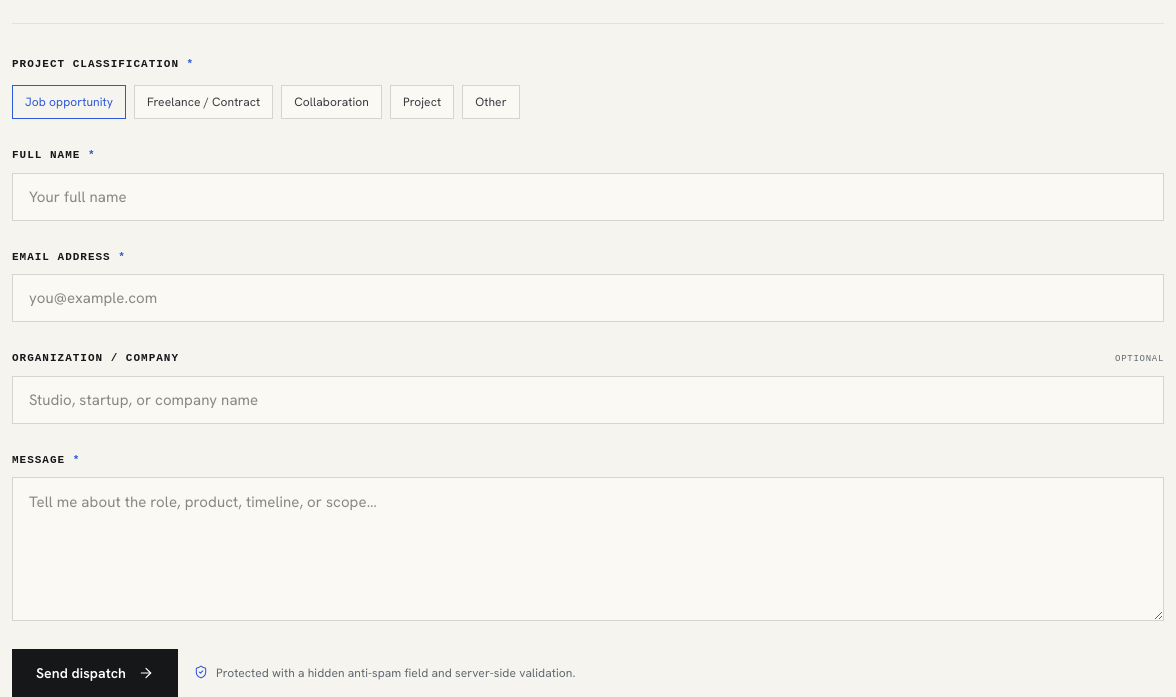
Test: ContactForm component › validates required fields before submitting
(page scrolled)
Click the button "Send dispatch".
click(95, 674)  # box [12,650,178,696]
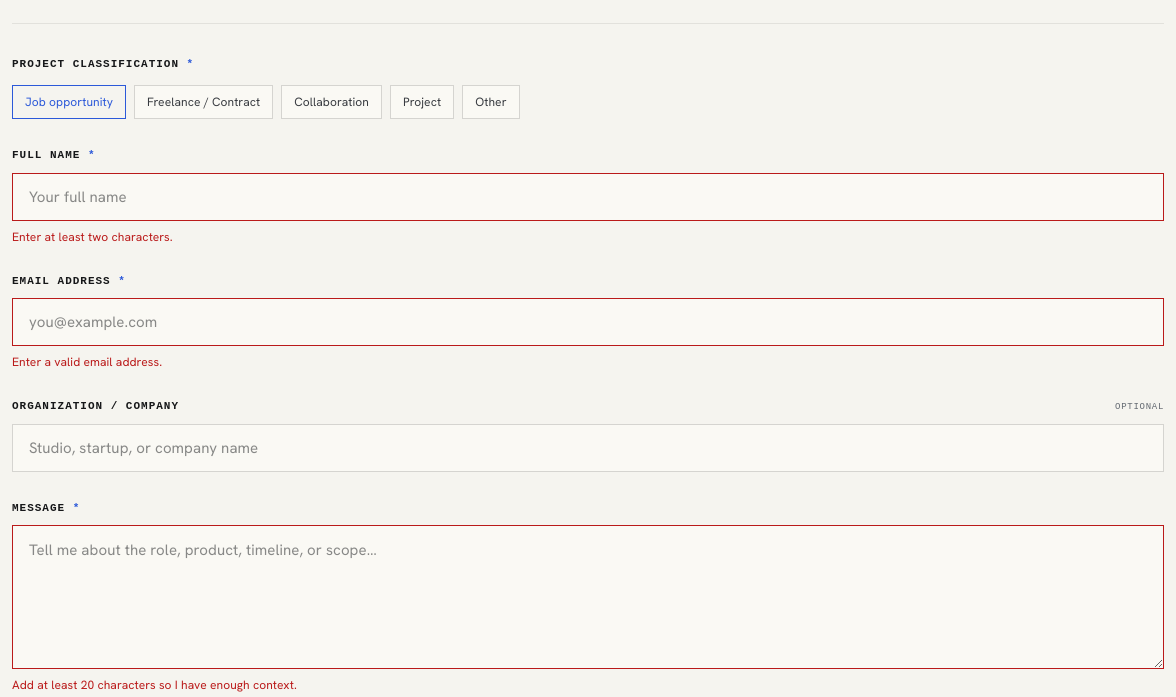
expect the text "Enter at least two characters." is shown: met, box [12,229,173,245]
expect the text "Enter a valid email address." is shown: met, box [12,354,162,370]
expect the text "Add at least 20 characters so I have enough context." is shown: met, box [12,678,297,694]
